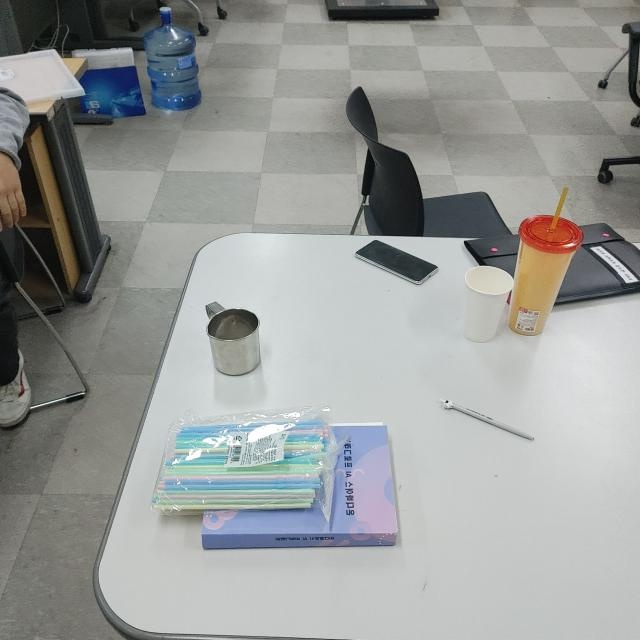cup: (203, 298, 261, 377)
phone: (354, 238, 438, 285)
